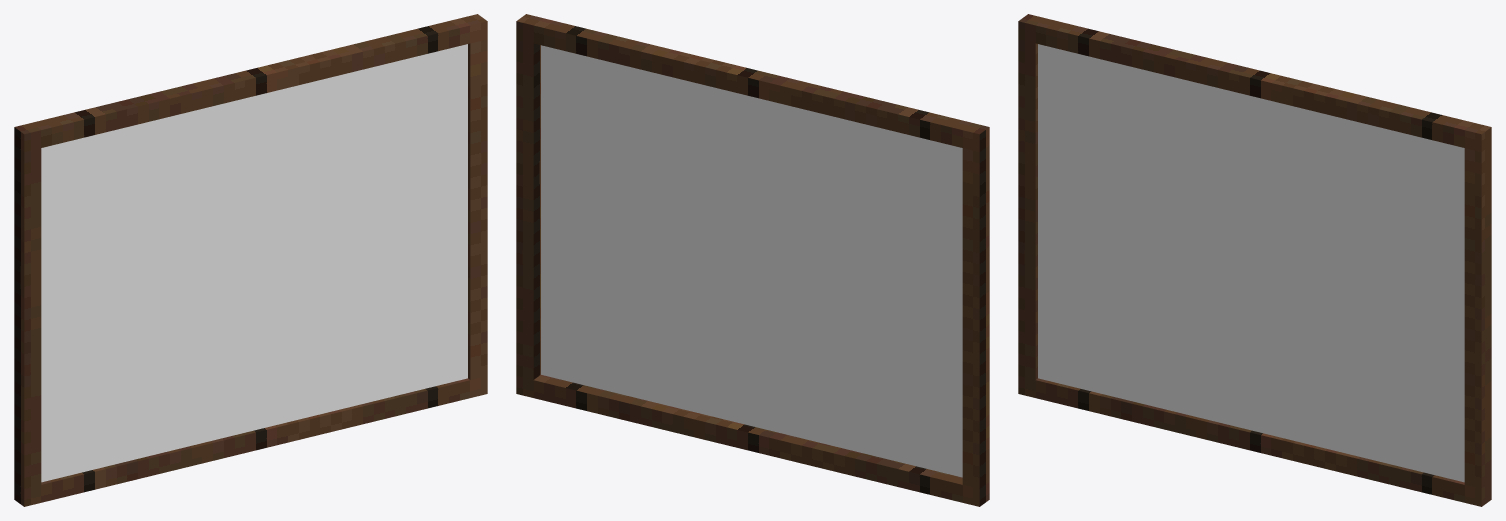
File: lamina.obj
The picture shows the model from 3 angles, left to right: view 1: azimuth 30°, elevation 25°; view 2: azimuth 150°, elevation 25°; view 3: azimuth 330°, elevation 25°; orthographic projection.
Visible parts, largest first — view 1: lamina; view 2: lamina; view 3: lamina.
Part boxes in pixels (x1,y1,x2,y2): lamina: [14, 14, 487, 506]; lamina: [516, 14, 989, 506]; lamina: [1018, 14, 1491, 506].
Size of the model in its own units: 1.08 by 0.83 by 0.04.
2 materials, 1 textured.
